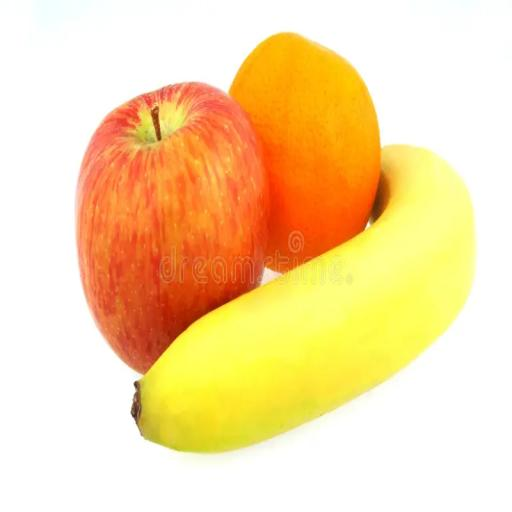apple: (76, 83, 269, 373)
banana: (132, 146, 476, 452)
orange: (230, 33, 380, 272)
